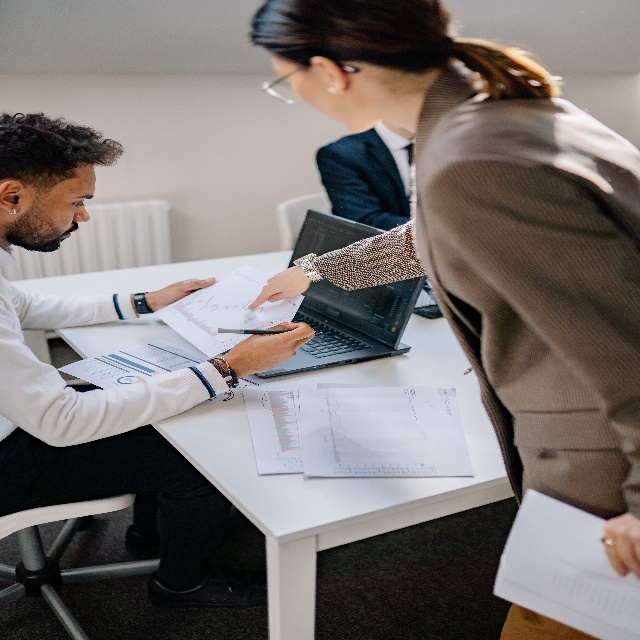Gafas: (261, 55, 356, 107)
Sin_guantes: (224, 323, 315, 377), (248, 263, 313, 311), (600, 512, 640, 581), (153, 273, 217, 308)
